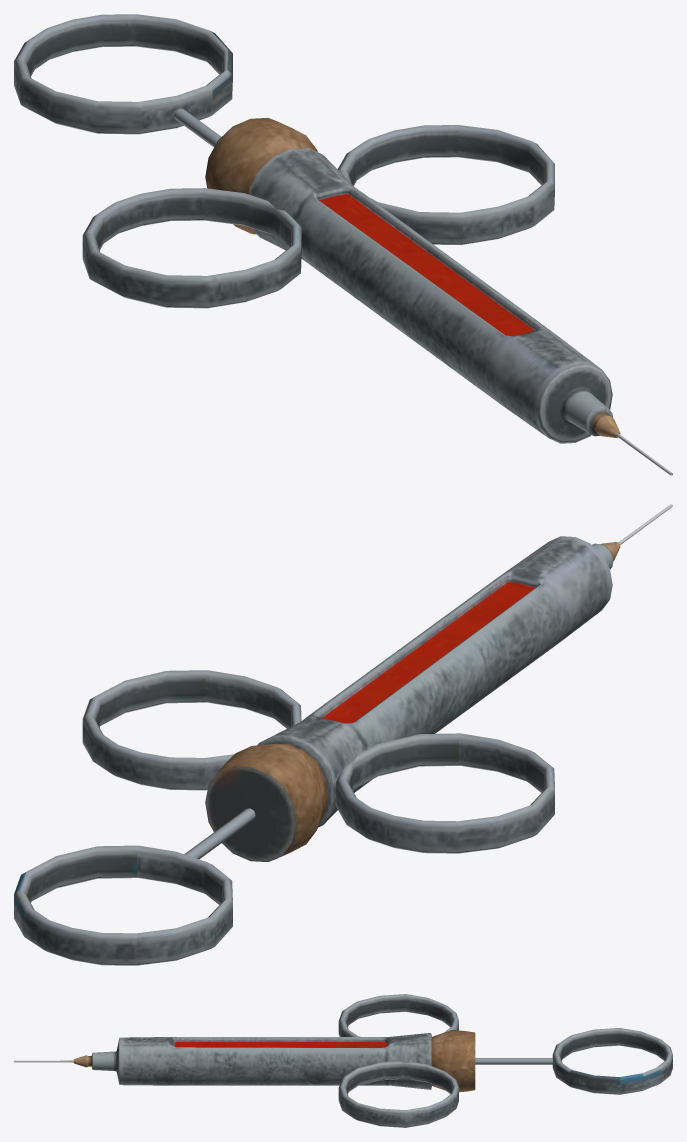
File: adrenaline.glb
3 renders of one model, top to bottom at view 1: azimuth 30°, elevation 25°; view 2: azimuth 150°, elevation 25°; view 3: azimuth 270°, elevation 25°, orthographic. The views are drawn at different scales.
Parts seen in each view (by area): view 1: polySurface20_lambert1_0; view 2: polySurface20_lambert1_0; view 3: polySurface20_lambert1_0.
Boxes of the visible parts, x1,y1,x2,y2 form: polySurface20_lambert1_0: [14, 14, 672, 475]; polySurface20_lambert1_0: [14, 504, 672, 965]; polySurface20_lambert1_0: [14, 994, 672, 1127].
Size of the model in its own units: 13.51 by 2.99 by 31.48.
Materials: 1 (1 with a texture image).
